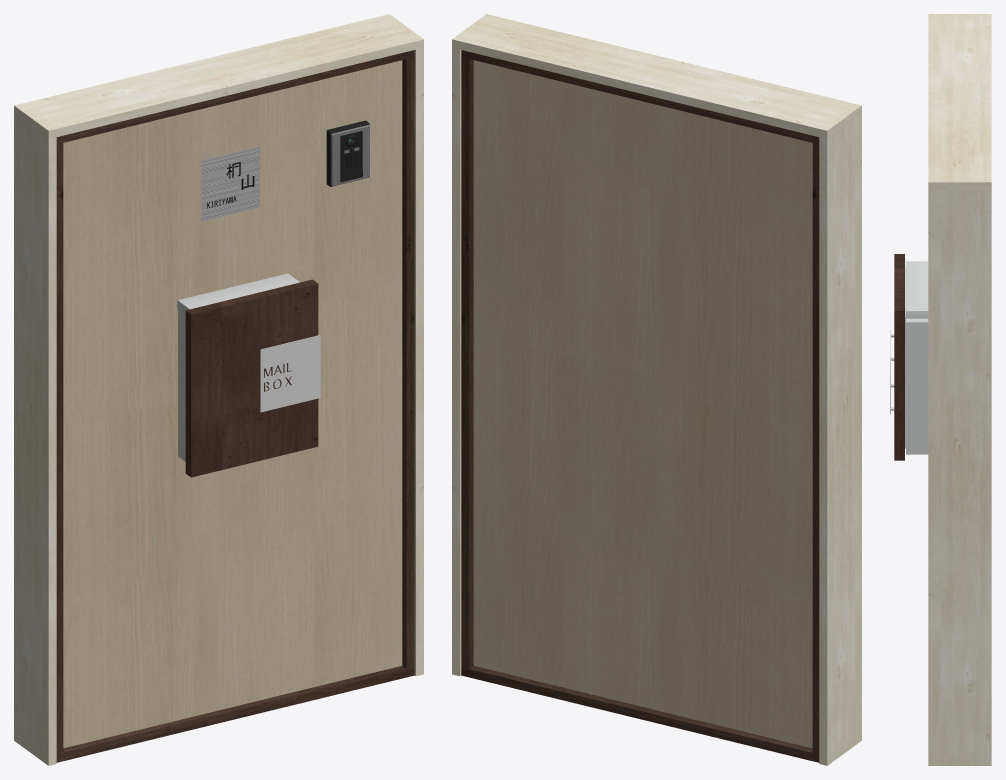
Rendered from ab3-m_springoak.fbx.
3 views of the same model, side by side, from view 1: azimuth 30°, elevation 25°; view 2: azimuth 150°, elevation 25°; view 3: azimuth 270°, elevation 25° (orthographic). The views are drawn at different scales.
Parts seen in each view (by area): view 1: ab3-m_springoak; view 2: ab3-m_springoak; view 3: ab3-m_springoak.
Part boxes in pixels (box(x1,y1,x2,y2)): ab3-m_springoak: box(14, 14, 423, 765); ab3-m_springoak: box(452, 14, 861, 765); ab3-m_springoak: box(890, 14, 991, 765).
Bounding box in the file's own units: 94 × 152 × 23.97.
11 materials, 8 textured.
